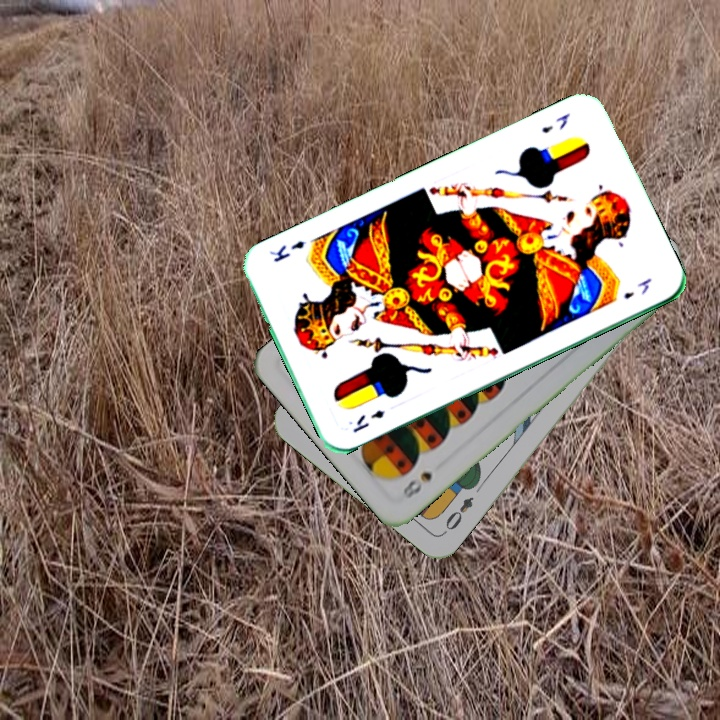EK: (348, 405, 388, 435), (537, 109, 573, 136)
EO: (438, 492, 476, 537)
S8: (397, 467, 435, 504)
